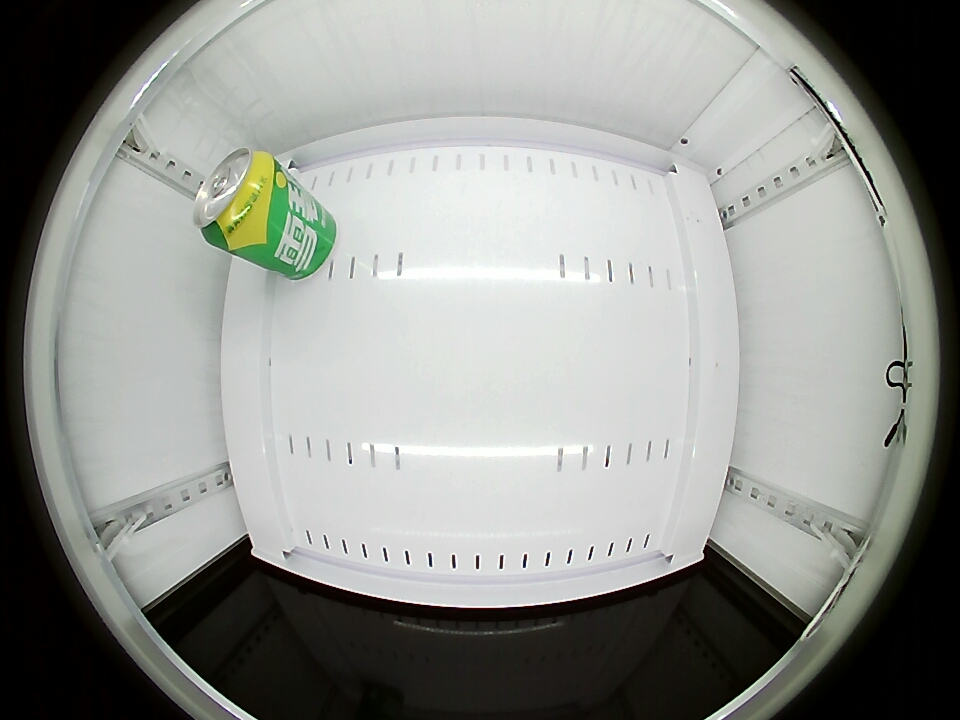xuebi2: (192, 148, 284, 250)
